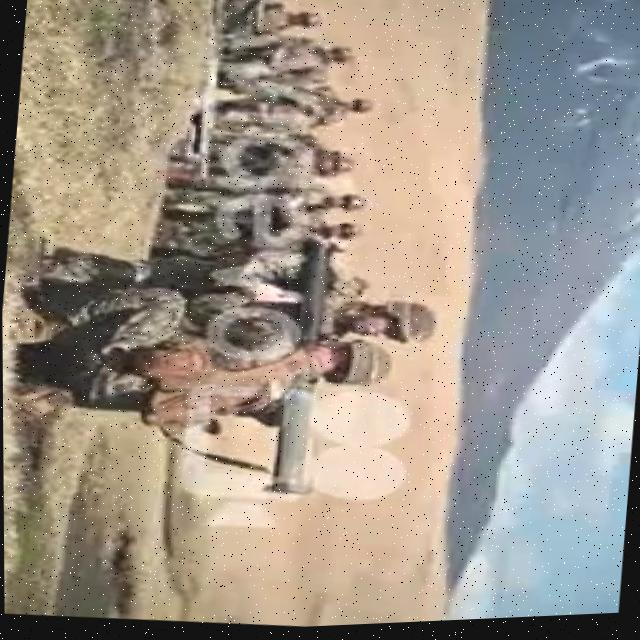rocket: (263, 237, 338, 497)
